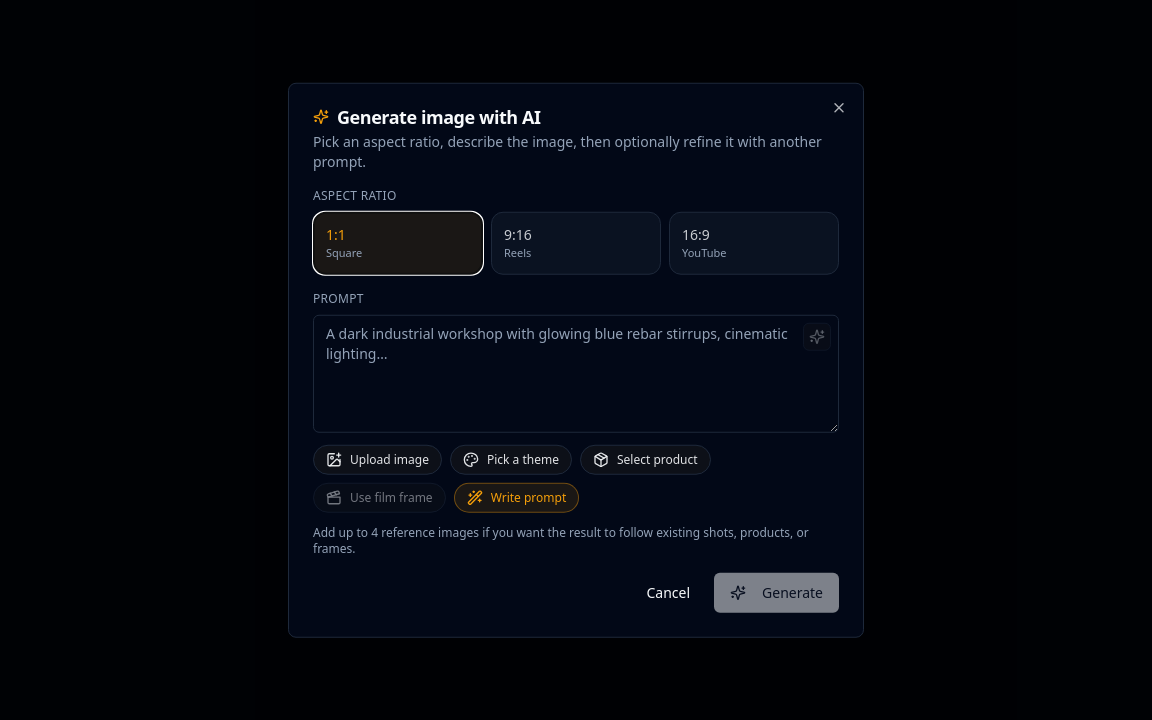
Test: AiImageDialog prompt optimization › shows a loading state and disables the button while processing
Later steps or results of the test are not shown.
Replace the text in the text box with placeholder "dark industrial workshop with glowing blue rebar stirrups" with "Idea": (576, 373) [313, 314, 839, 432]
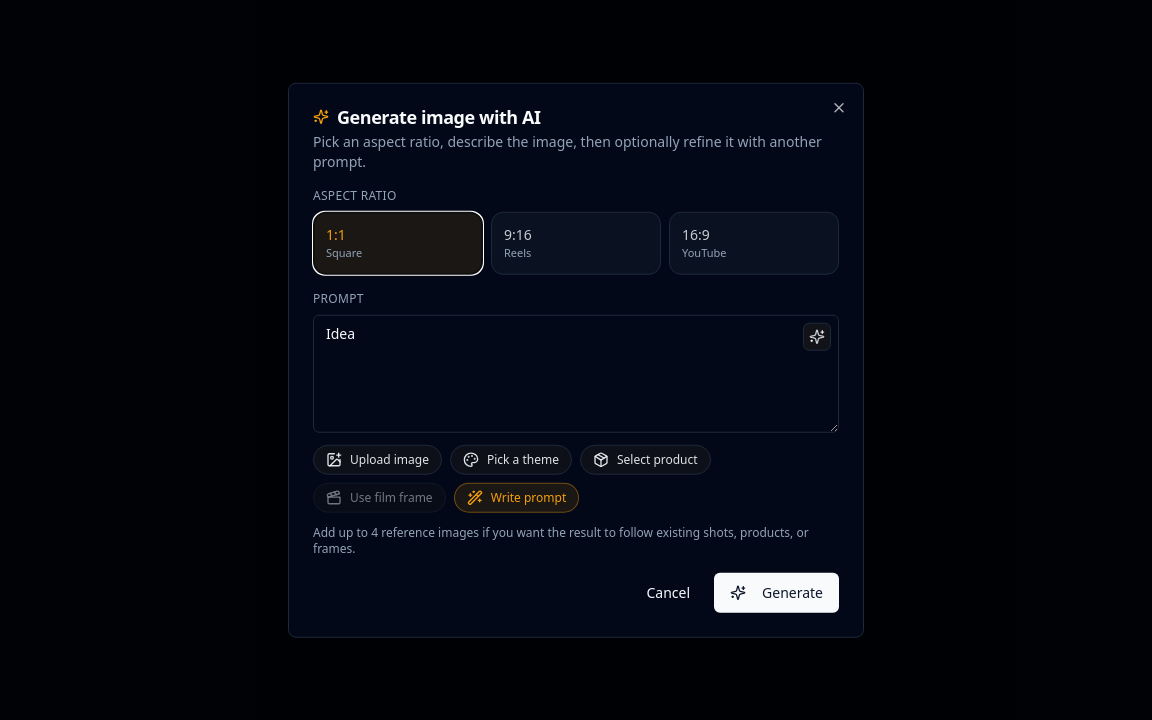
Click the button named "optimize prompt with ai": (817, 336) [803, 322, 831, 350]
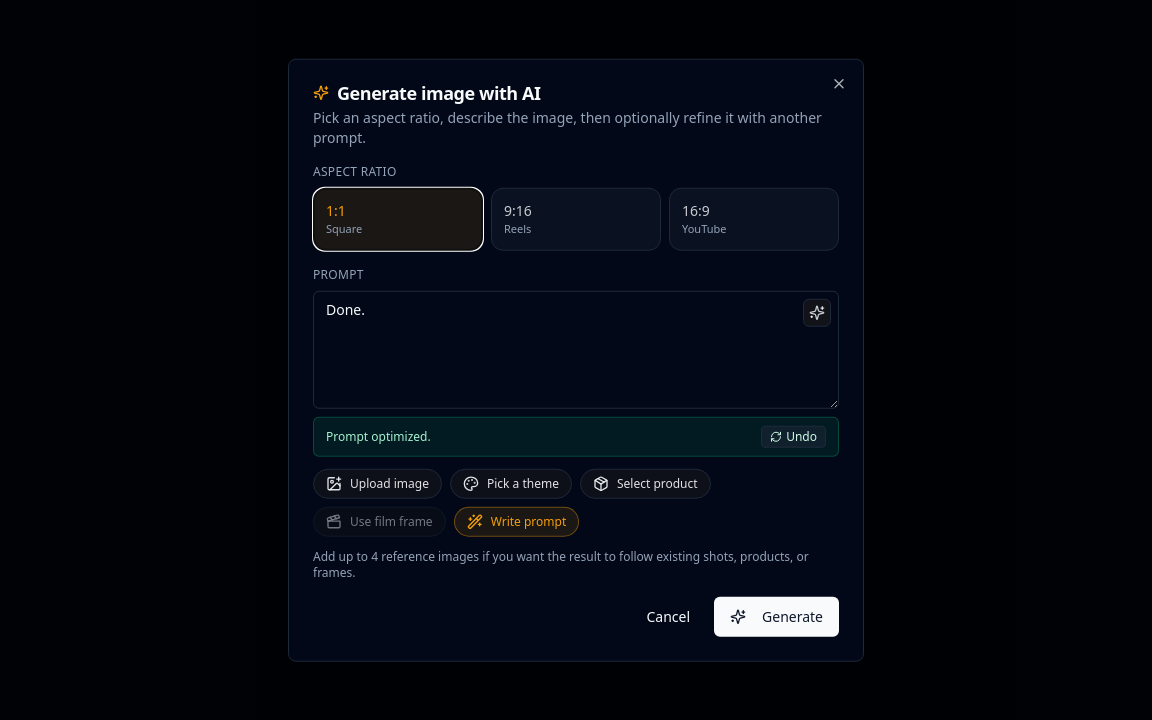
Now the text box with placeholder "dark industrial workshop with glowing blue rebar stirrups" holds "Done.", box [313, 290, 839, 408]
